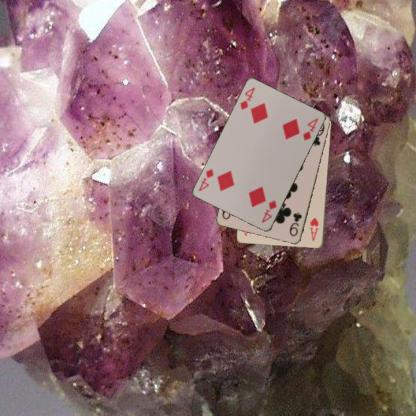4d: (259, 198, 278, 224), (238, 85, 256, 111)
9c: (286, 210, 304, 237)
Ah: (307, 215, 320, 242)
